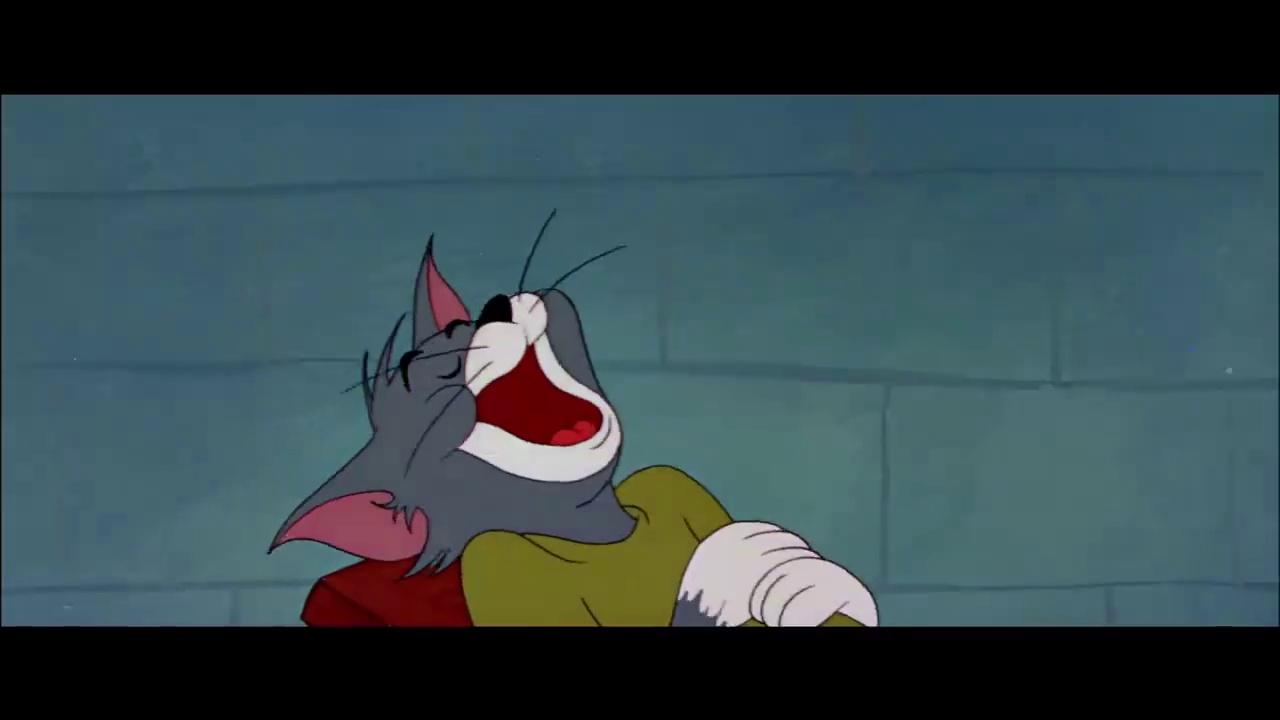Tom: (267, 232, 880, 626)
